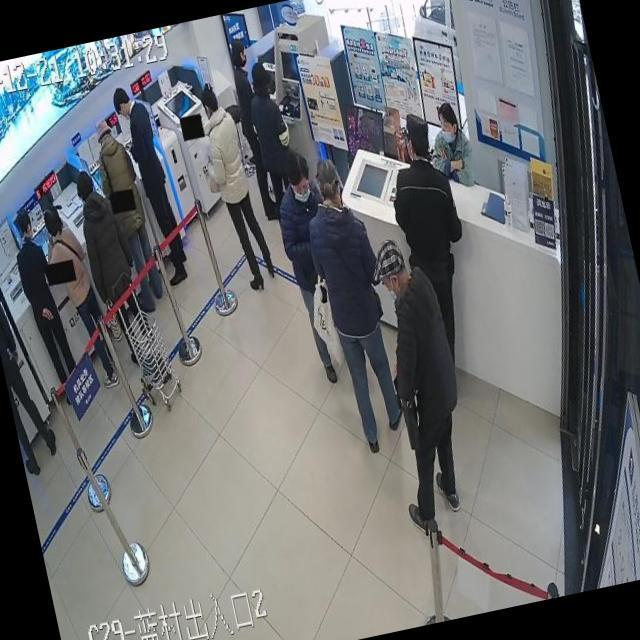person: (354, 230, 489, 548), (291, 152, 417, 459), (375, 107, 492, 378), (265, 148, 359, 390), (187, 79, 278, 298), (109, 77, 193, 288), (70, 165, 154, 368), (38, 199, 122, 394), (87, 110, 169, 309), (88, 111, 168, 312), (5, 206, 80, 392), (0, 253, 61, 475), (0, 269, 63, 476), (222, 38, 282, 222), (241, 60, 305, 216), (420, 98, 480, 191)
